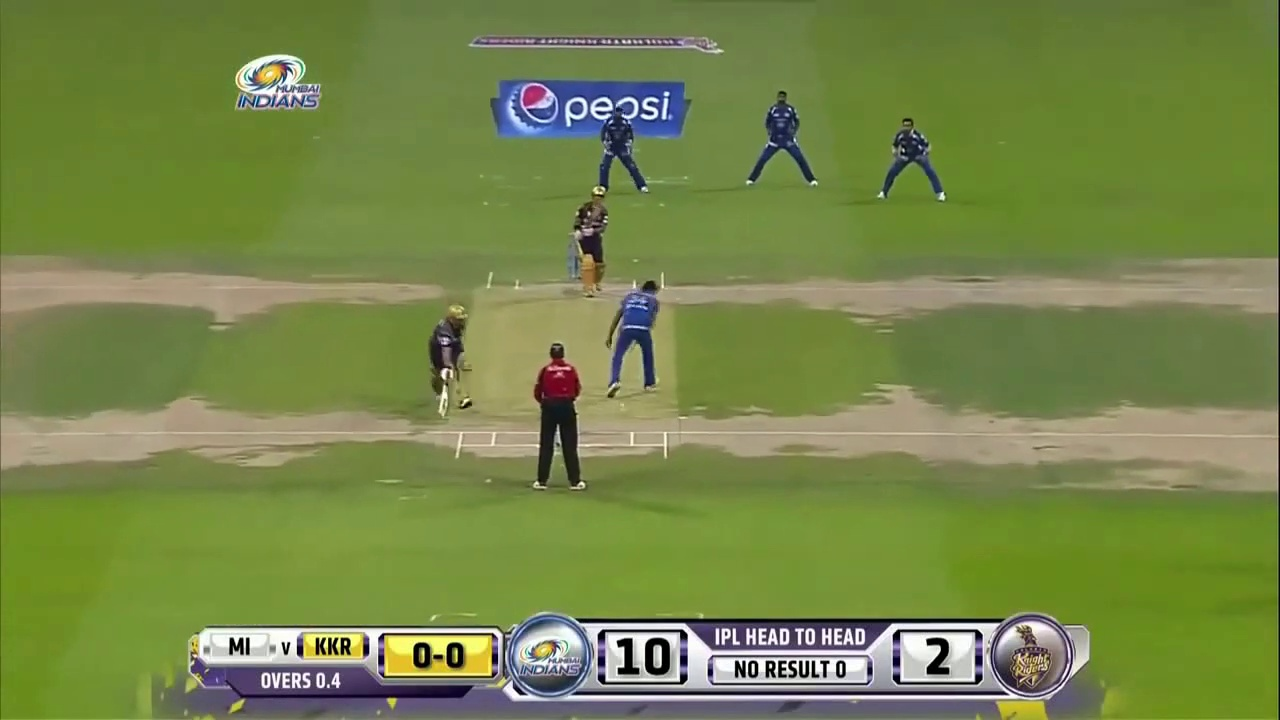bat: (437, 389, 447, 419)
